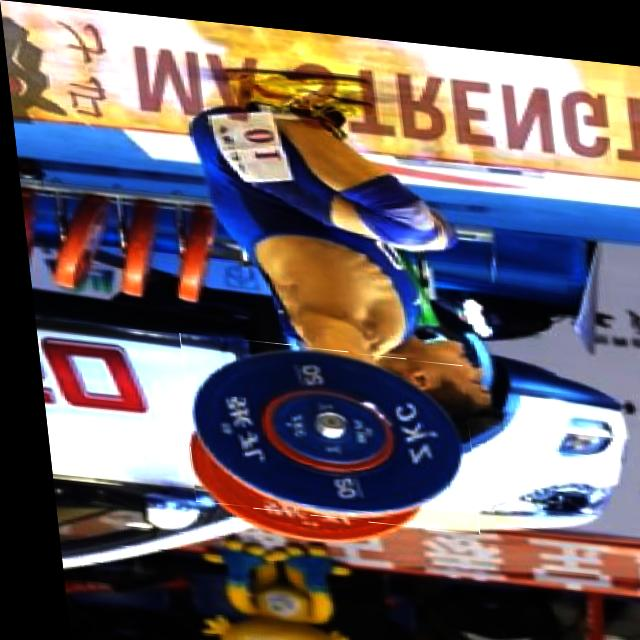barbell: (171, 332, 470, 526)
